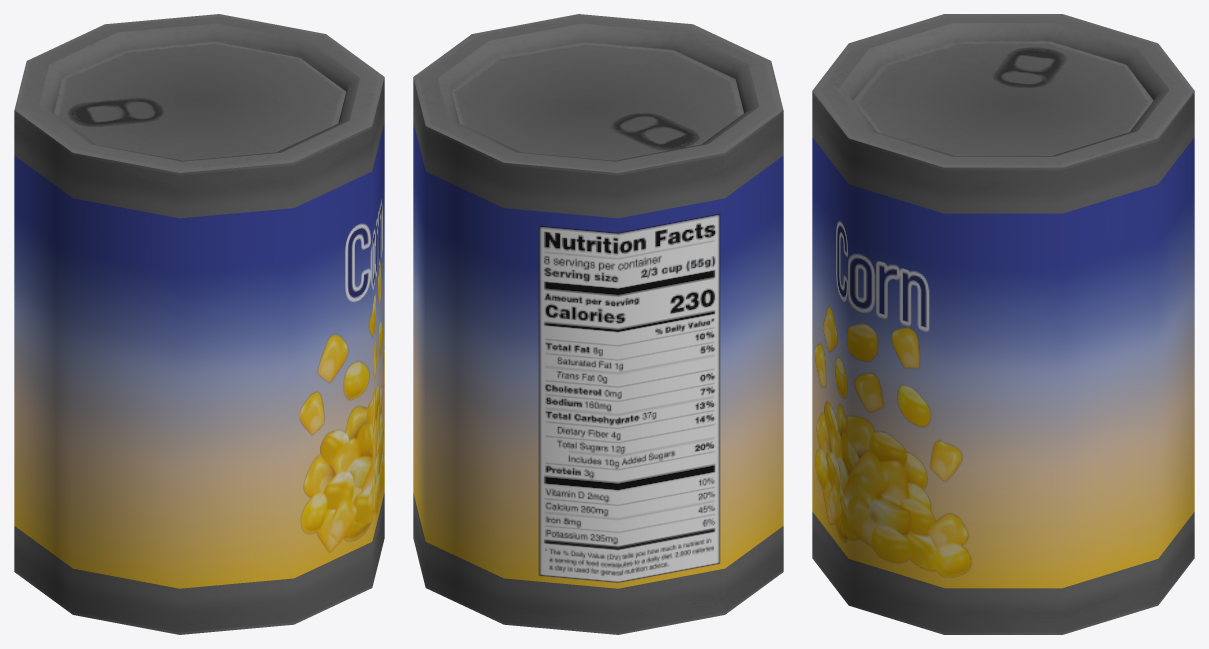
File: Can_A.fbx
3 views of the same model, side by side, from view 1: azimuth 30°, elevation 25°; view 2: azimuth 150°, elevation 25°; view 3: azimuth 270°, elevation 25° (orthographic).
Visible parts, largest first — view 1: Can_A; view 2: Can_A; view 3: Can_A.
Part boxes in pixels (x1,y1,x2,y2): Can_A: (14,14,384,634); Can_A: (413,14,783,634); Can_A: (812,14,1194,634).
Bounding box in the file's own units: 0.133 × 0.1888 × 0.1399.
Materials: 1 (1 with a texture image).
